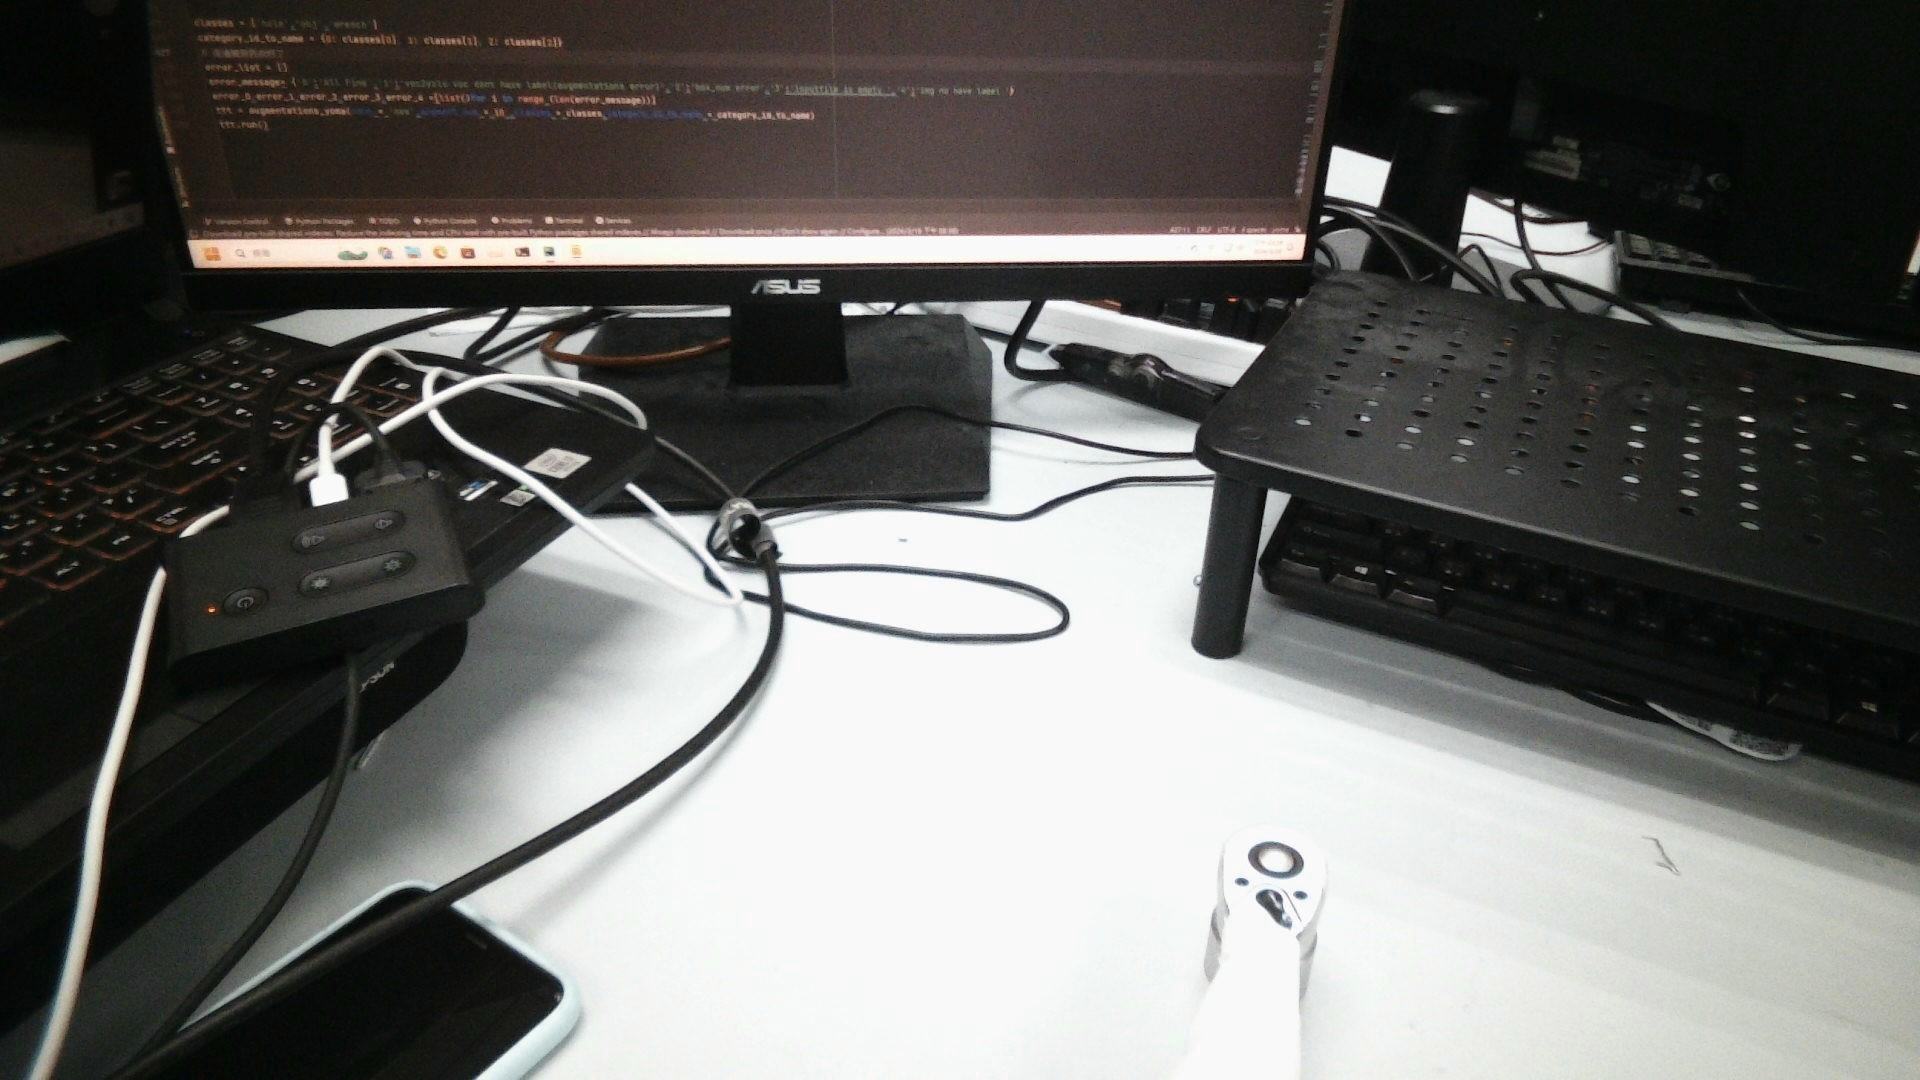wrench: (1244, 833, 1305, 880)
